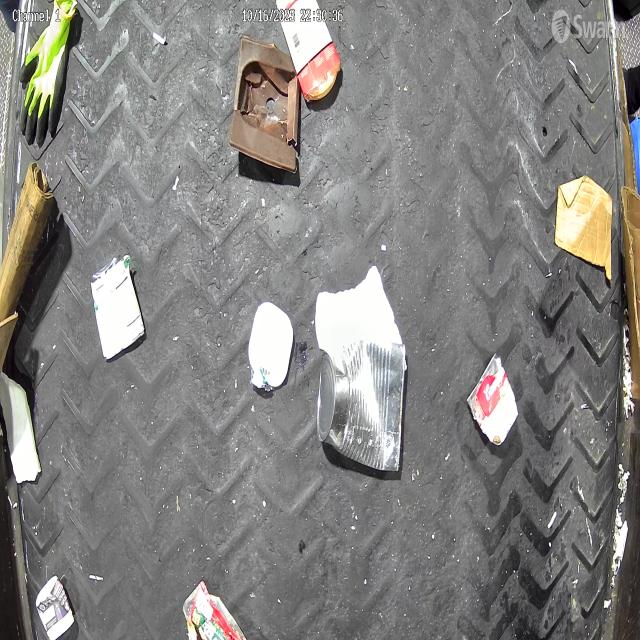can: (317, 339, 405, 471), (90, 253, 146, 363), (467, 353, 519, 446)
